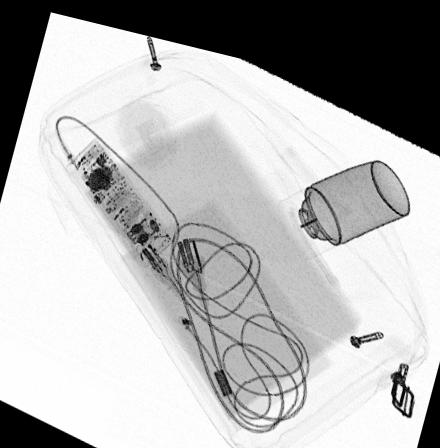Sprayer: (274, 140, 409, 245)
